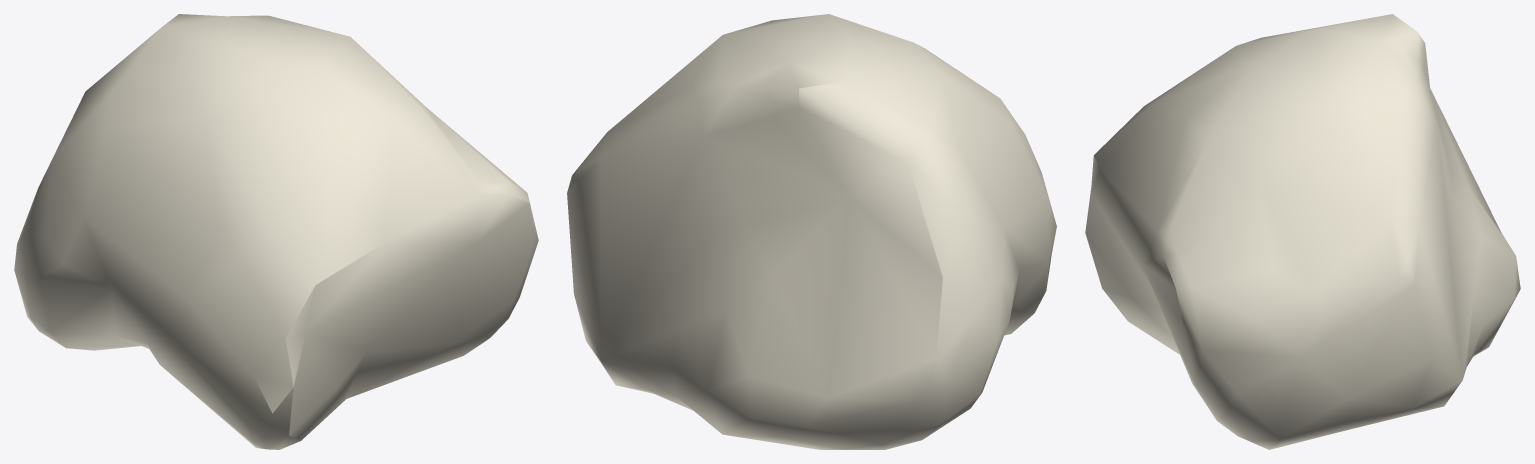
File: fma230988.glb
3 renders of one model, left to right at view 1: azimuth 30°, elevation 25°; view 2: azimuth 150°, elevation 25°; view 3: azimuth 270°, elevation 25°, orthographic. The views are drawn at different scales.
Visible parts, largest first — view 1: FMA230988; view 2: FMA230988; view 3: FMA230988.
Boxes of the visible parts, x1=… form: FMA230988: x1=14, y1=14, x2=538, y2=449; FMA230988: x1=567, y1=14, x2=1056, y2=449; FMA230988: x1=1085, y1=14, x2=1520, y2=449.
Size of the model in its own units: 0.00828 by 0.0063 by 0.00763.
